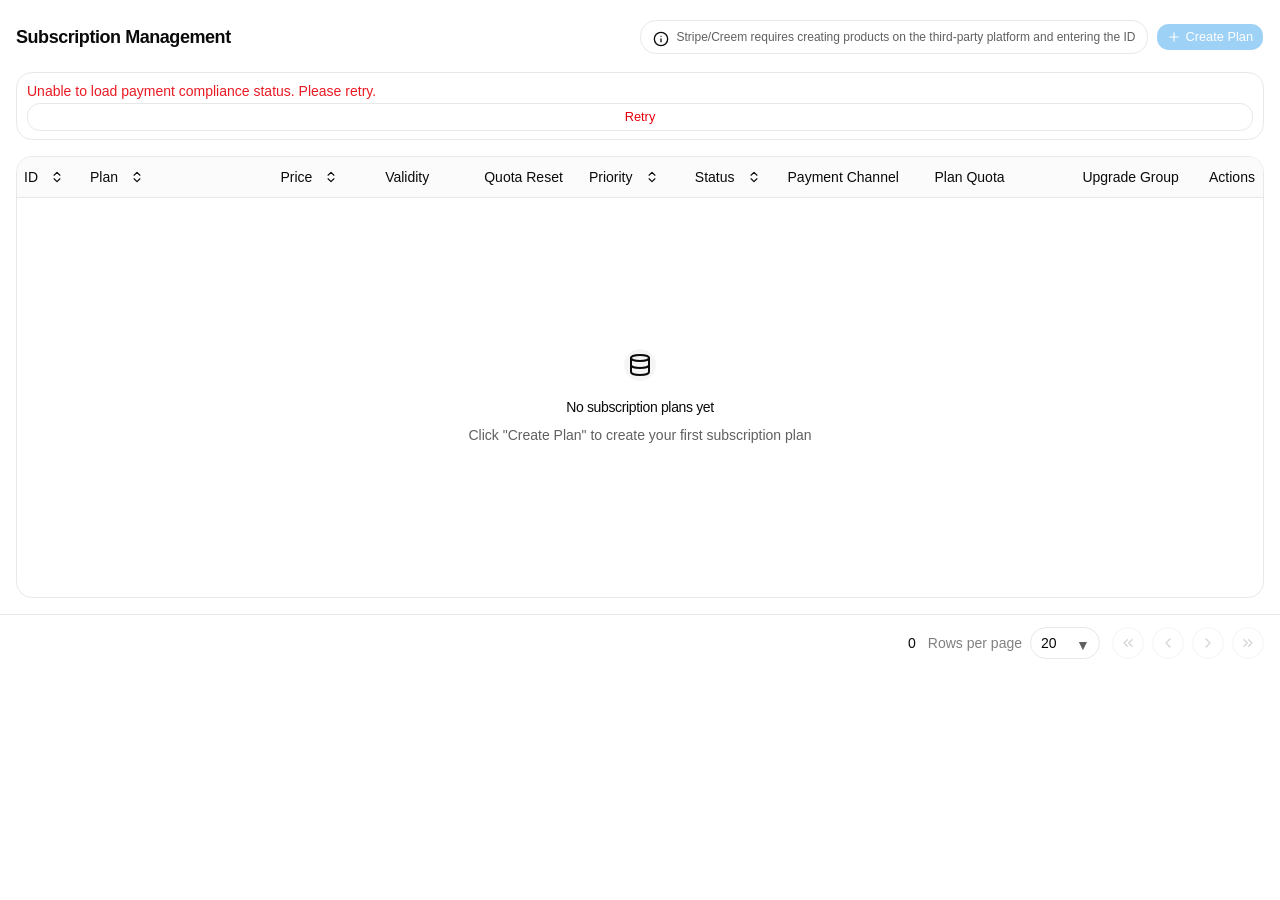
Scenario: a real permission error is shown as a loading failure and Retry can restore the capability
Expected: the text "Unable to load payment compliance status. Please retry." is shown, [27,83,376,99]
Expected: the button "Create Plan" is disabled, [1156,23,1264,51]
Click the button "Retry" at [640, 117], box [27,103,1253,131]
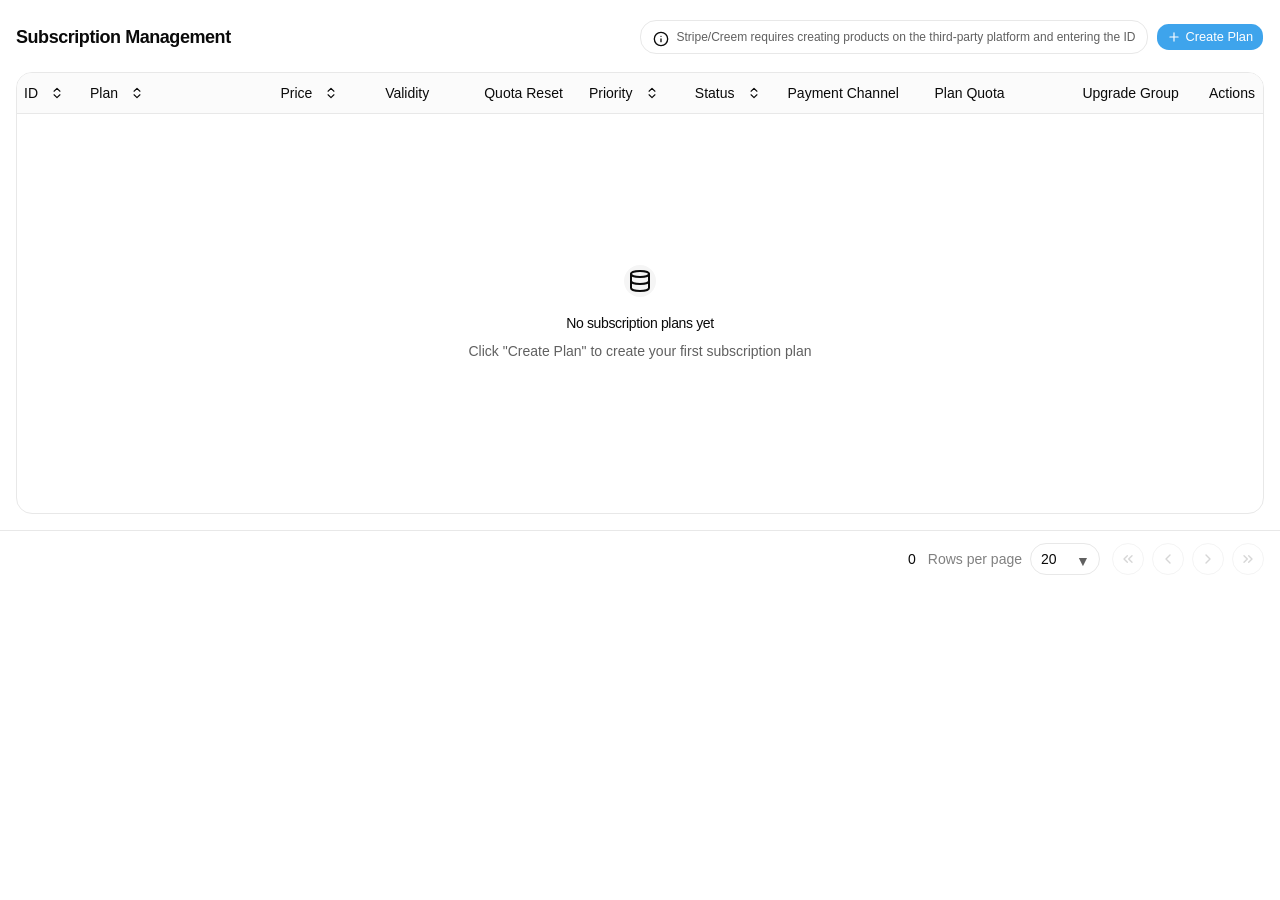
Now the button "Create Plan" is enabled, box [1156,23,1264,51]
